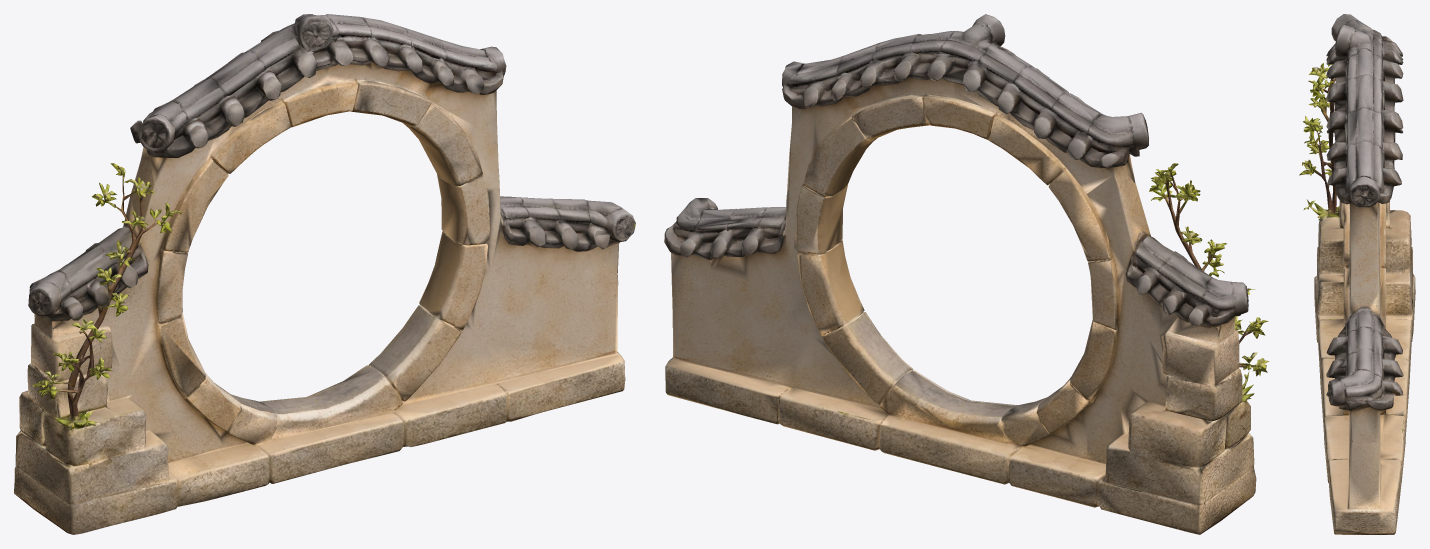
Rendered from moon-gate-mobile-v1.glb.
3 renders of one model, left to right at view 1: azimuth 30°, elevation 25°; view 2: azimuth 150°, elevation 25°; view 3: azimuth 270°, elevation 25°, orthographic. The views are drawn at different scales.
Parts seen in each view (by area): view 1: moon-gate; view 2: moon-gate; view 3: moon-gate.
Part boxes in pixels (bbox=[...]): moon-gate: bbox=[14, 14, 635, 534]; moon-gate: bbox=[664, 14, 1269, 534]; moon-gate: bbox=[1299, 14, 1415, 534].
Bounding box in the file's own units: 0.9803 × 0.6946 × 0.1933.
1 material, 1 textured.
